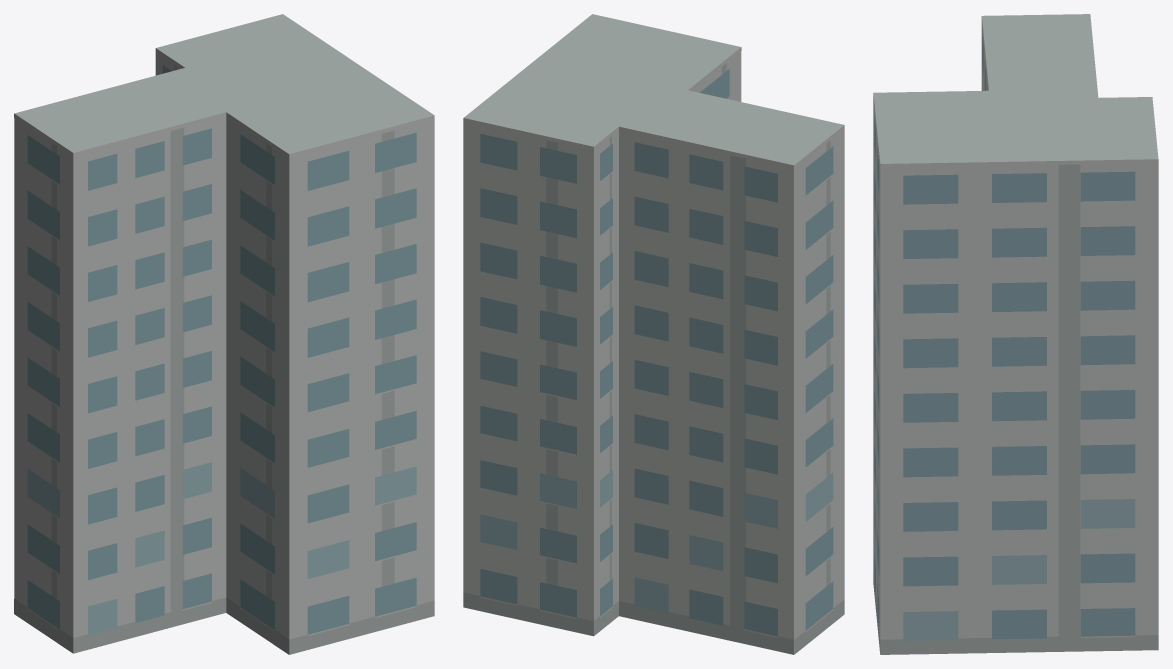
Rendered from residential-c2a56eef-2057-4885-93c0-2c39622c37b6.glb.
The picture shows the model from 3 angles, left to right: view 1: azimuth 30°, elevation 25°; view 2: azimuth 150°, elevation 25°; view 3: azimuth 270°, elevation 25°; orthographic projection. The views are drawn at different scales.
Parts seen in each view (by area): view 1: residential-c2a56eef-2057-4885-93c0-2c39622c37b6.tmp; view 2: residential-c2a56eef-2057-4885-93c0-2c39622c37b6.tmp; view 3: residential-c2a56eef-2057-4885-93c0-2c39622c37b6.tmp.
Boxes of the visible parts, <box> form: residential-c2a56eef-2057-4885-93c0-2c39622c37b6.tmp: <box>14,14,434,654</box>; residential-c2a56eef-2057-4885-93c0-2c39622c37b6.tmp: <box>463,14,844,654</box>; residential-c2a56eef-2057-4885-93c0-2c39622c37b6.tmp: <box>873,14,1158,654</box>.
Bounding box in the file's own units: 19.67 × 30 × 15.8.
